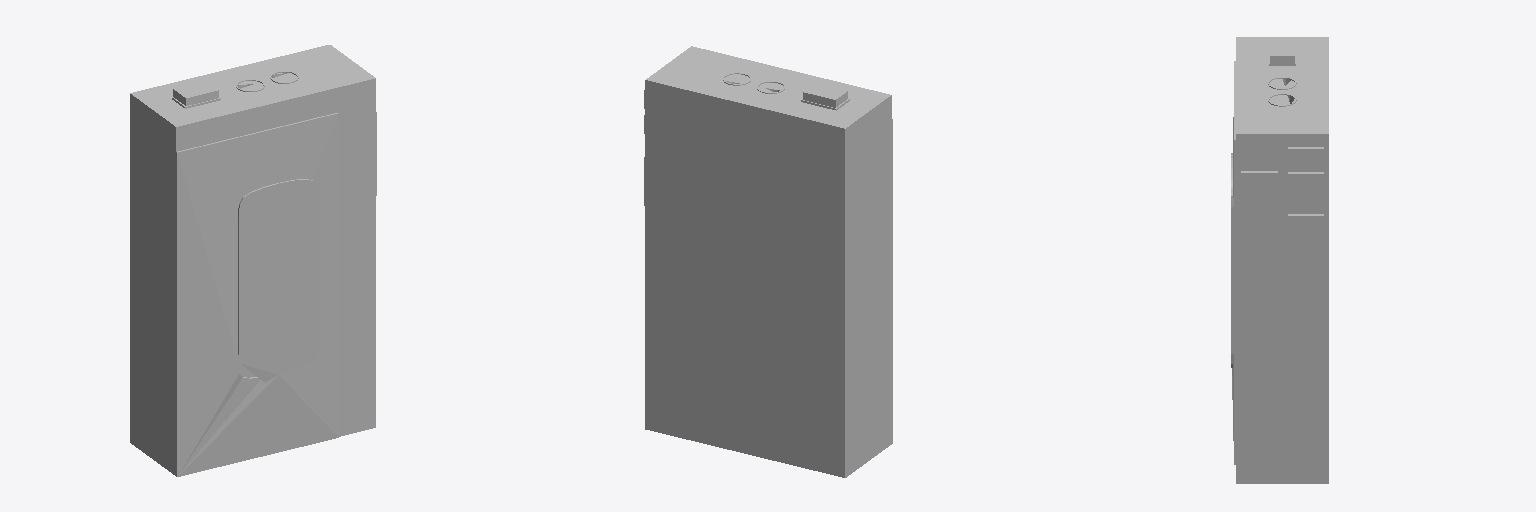
File: MixaTape.obj
The picture shows the model from 3 angles: view 1: azimuth 30°, elevation 25°; view 2: azimuth 150°, elevation 25°; view 3: azimuth 270°, elevation 25°; orthographic projection.
Parts seen in each view (by area): view 1: polySurface27; view 2: polySurface27; view 3: polySurface27.
Boxes of the visible parts, box(x1,y1,x2,y2) form: polySurface27: box(130, 45, 376, 476); polySurface27: box(644, 46, 892, 477); polySurface27: box(1231, 37, 1328, 483).
Bounding box in the file's own units: 0.6779 × 1.14 × 0.2804.